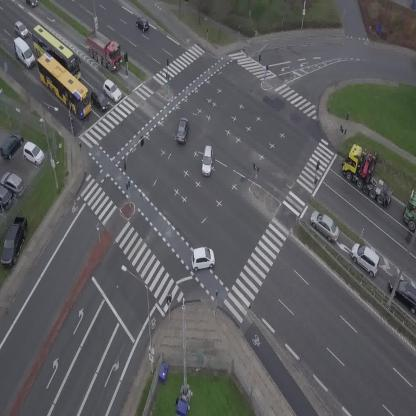bicycle: (68, 117, 75, 132)
bus: (28, 49, 100, 120), (22, 23, 90, 85)
car: (345, 239, 387, 279), (304, 207, 345, 244), (188, 244, 217, 273), (86, 86, 114, 113), (99, 78, 125, 103), (175, 116, 191, 143), (11, 19, 31, 40), (201, 144, 214, 176), (133, 15, 152, 33), (25, 0, 38, 8)
lorry: (334, 137, 398, 217), (78, 27, 130, 74), (8, 35, 38, 71), (403, 190, 416, 231)
